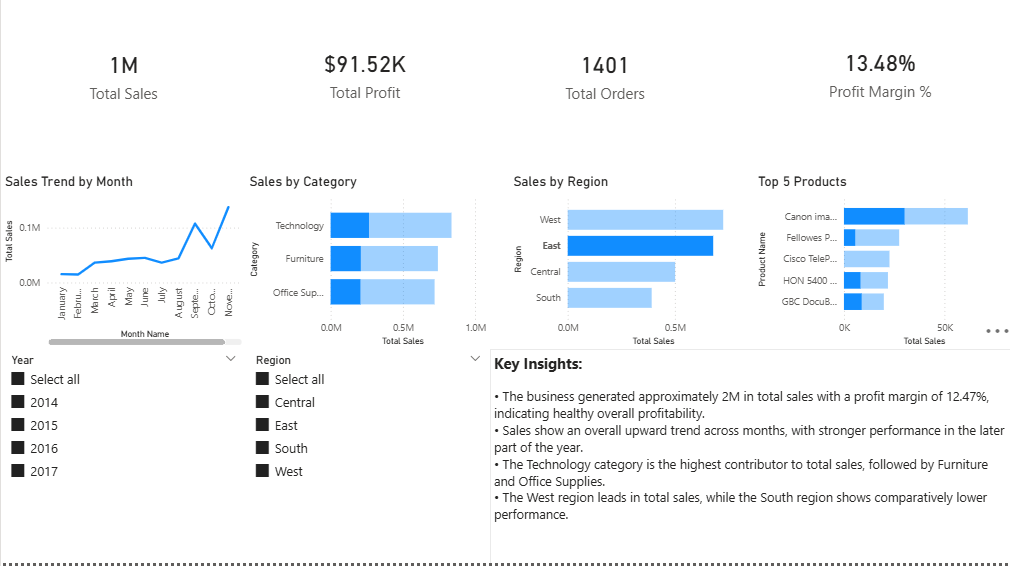

What the dashboard file says about the page in this screenshot:
{"tool":"powerbi","page":{"name":"Page 1","canvas":[1280,720],"ordinal":0},"visuals":[{"type":"card","title":"Total Sales","fields":{"Values":["Sales_Data.Total Sales"]},"box":[0,0,308,204.1],"z":0},{"type":"card","fields":{"Values":["Sales_Data.Total Profit"]},"box":[308,0,300.5,202.2],"z":1000},{"type":"card","fields":{"Values":["Sales_Data.Total Orders"]},"box":[599.1,0,323.2,204.1],"z":2000},{"type":"card","fields":{"Values":["Sales_Data.Profit Margin %"]},"box":[935.4,0,343.9,198.4],"z":3000},{"type":"lineChart","title":"Sales Trend by Month","fields":{"Category":["Sales_Data.Month Name"],"Y":["Sales_Data.Total Sales"]},"box":[0,228.7,308,221.1],"z":4000},{"type":"clusteredBarChart","title":"Sales by Category","fields":{"Category":["Sales_Data.Category"],"Y":["Sales_Data.Total Sales"]},"box":[308,228.7,308,221.1],"z":5000},{"type":"barChart","title":"Sales by Region","fields":{"Category":["Sales_Data.Region"],"Y":["Sales_Data.Total Sales"]},"box":[640.6,228.7,308,221.1],"z":6000},{"type":"clusteredBarChart","title":"Top 5 Products","fields":{"Category":["Sales_Data.Product Name"],"Y":["Sales_Data.Total Sales"]},"box":[948.7,228.7,330.7,221.1],"z":7000},{"type":"slicer","title":"Year","fields":{"Values":["Sales_Data.Year"]},"box":[0,449.8,308,270.2],"z":8000},{"type":"slicer","fields":{"Values":["Sales_Data.Region"]},"box":[308,449.8,308,270.2],"z":9000},{"type":"textbox","box":[616.1,449.8,663.3,270.2],"z":10000}]}

Visuals, with their boxes in screenshot pixels (x1, y1, x2, y2), scaled from the page's 1280x720 canvas onto the 1010x566 screenshot:
"Total Sales" card: <box>0,0,243,160</box>
card - Sales_Data.Total Profit: <box>243,0,480,159</box>
card - Sales_Data.Total Orders: <box>473,0,728,160</box>
card - Sales_Data.Profit Margin %: <box>738,0,1009,156</box>
"Sales Trend by Month" lineChart: <box>0,180,243,354</box>
"Sales by Category" clusteredBarChart: <box>243,180,486,354</box>
"Sales by Region" barChart: <box>505,180,749,354</box>
"Top 5 Products" clusteredBarChart: <box>749,180,1009,354</box>
"Year" slicer: <box>0,354,243,565</box>
slicer - Sales_Data.Region: <box>243,354,486,565</box>
textbox: <box>486,354,1009,565</box>
